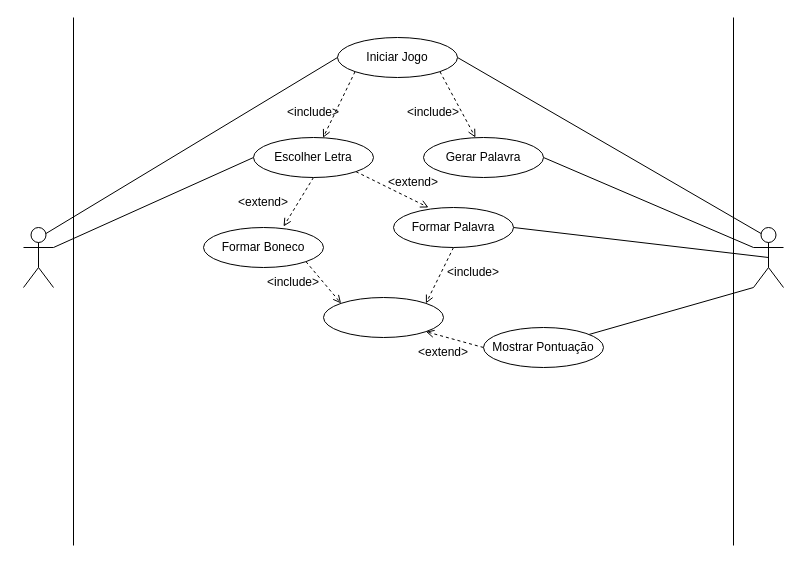
Image size: 801x564. Some labels were removed from this diagram. Here are the shapes that lost their labels. From the top down, the centre of each, then its label:
[38,257]: Jogador
[768,257]: PC
[383,317]: Finalizar Jogo
